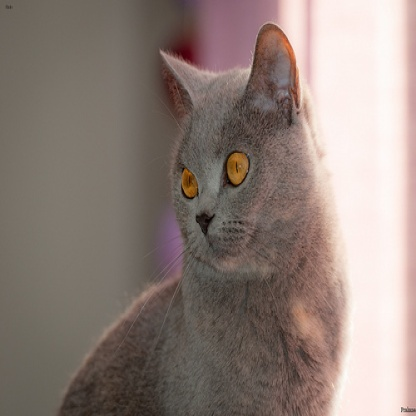british_shorthair: (55, 23, 350, 416)
